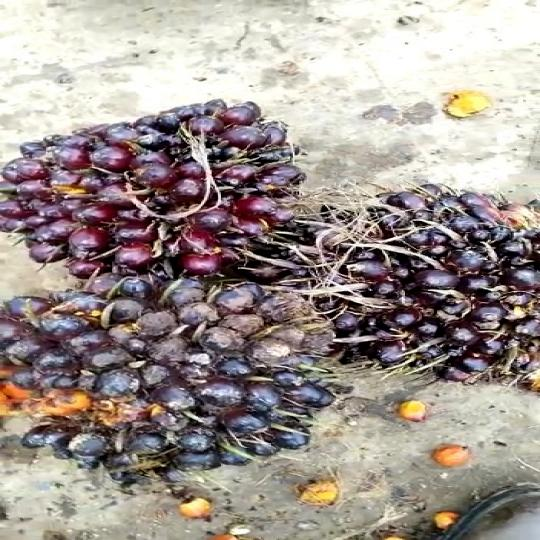kurang masak: (0, 271, 341, 498), (0, 104, 320, 290), (291, 182, 540, 400)
